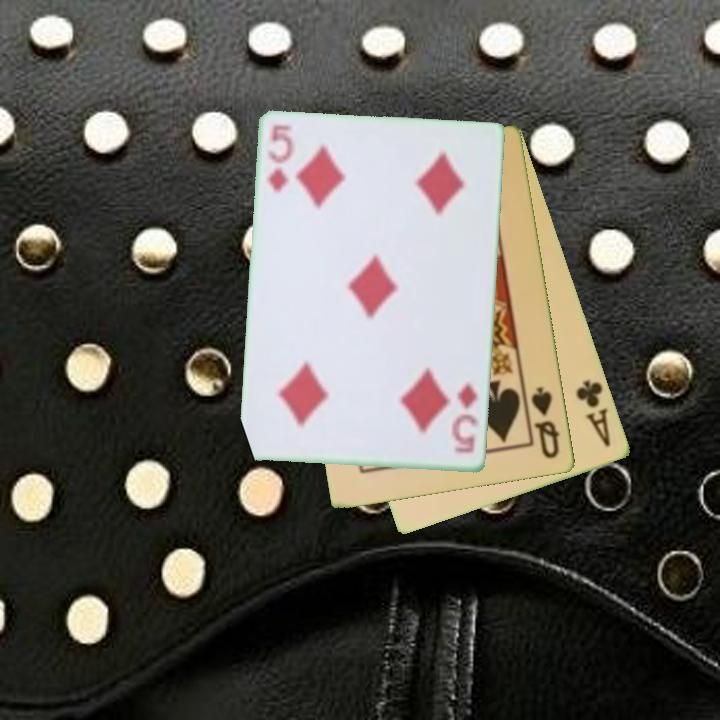5d: (449, 378, 481, 457), (264, 121, 295, 196)
Ac: (573, 376, 614, 450)
Qs: (528, 383, 564, 462)
